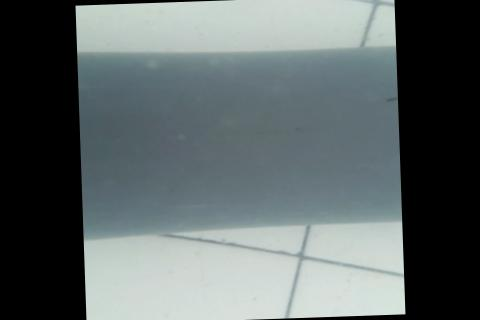keretakan: (382, 93, 398, 104)
